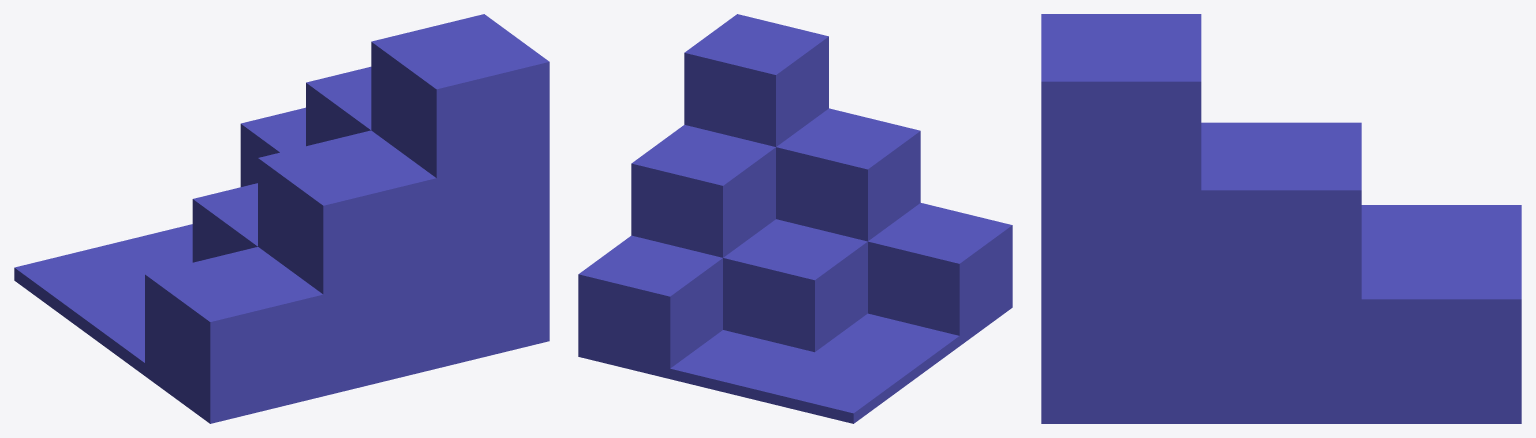
The model's file is CornerPiece 1.fbx.
3 renders of one model, left to right at view 1: azimuth 30°, elevation 25°; view 2: azimuth 150°, elevation 25°; view 3: azimuth 270°, elevation 25°, orthographic. The views are drawn at different scales.
Parts seen in each view (by area): view 1: Corner; view 2: Corner; view 3: Corner.
Part boxes in pixels (x1=…): Corner: x1=14, y1=14, x2=549, y2=423; Corner: x1=578, y1=14, x2=1012, y2=423; Corner: x1=1041, y1=14, x2=1521, y2=423.
Bounding box in the file's own units: 200 × 157 × 200.
